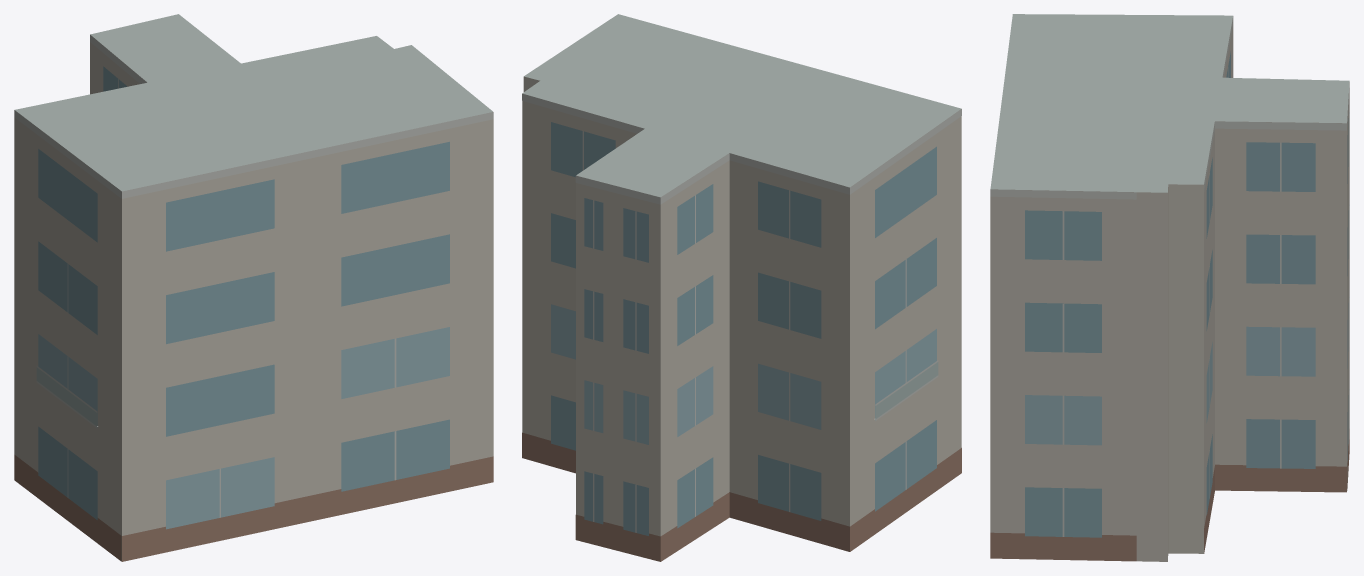
The model's file is survey-upis-32914736.glb.
3 renders of one model, left to right at view 1: azimuth 30°, elevation 25°; view 2: azimuth 150°, elevation 25°; view 3: azimuth 270°, elevation 25°, orthographic.
Parts seen in each view (by area): view 1: survey-upis-32914736.tmp; view 2: survey-upis-32914736.tmp; view 3: survey-upis-32914736.tmp.
Boxes of the visible parts, x1,y1,x2,y2 form: survey-upis-32914736.tmp: (14, 14, 493, 561); survey-upis-32914736.tmp: (522, 14, 961, 561); survey-upis-32914736.tmp: (990, 14, 1349, 561).
Size of the model in its own units: 12.68 by 12.2 by 10.77.
